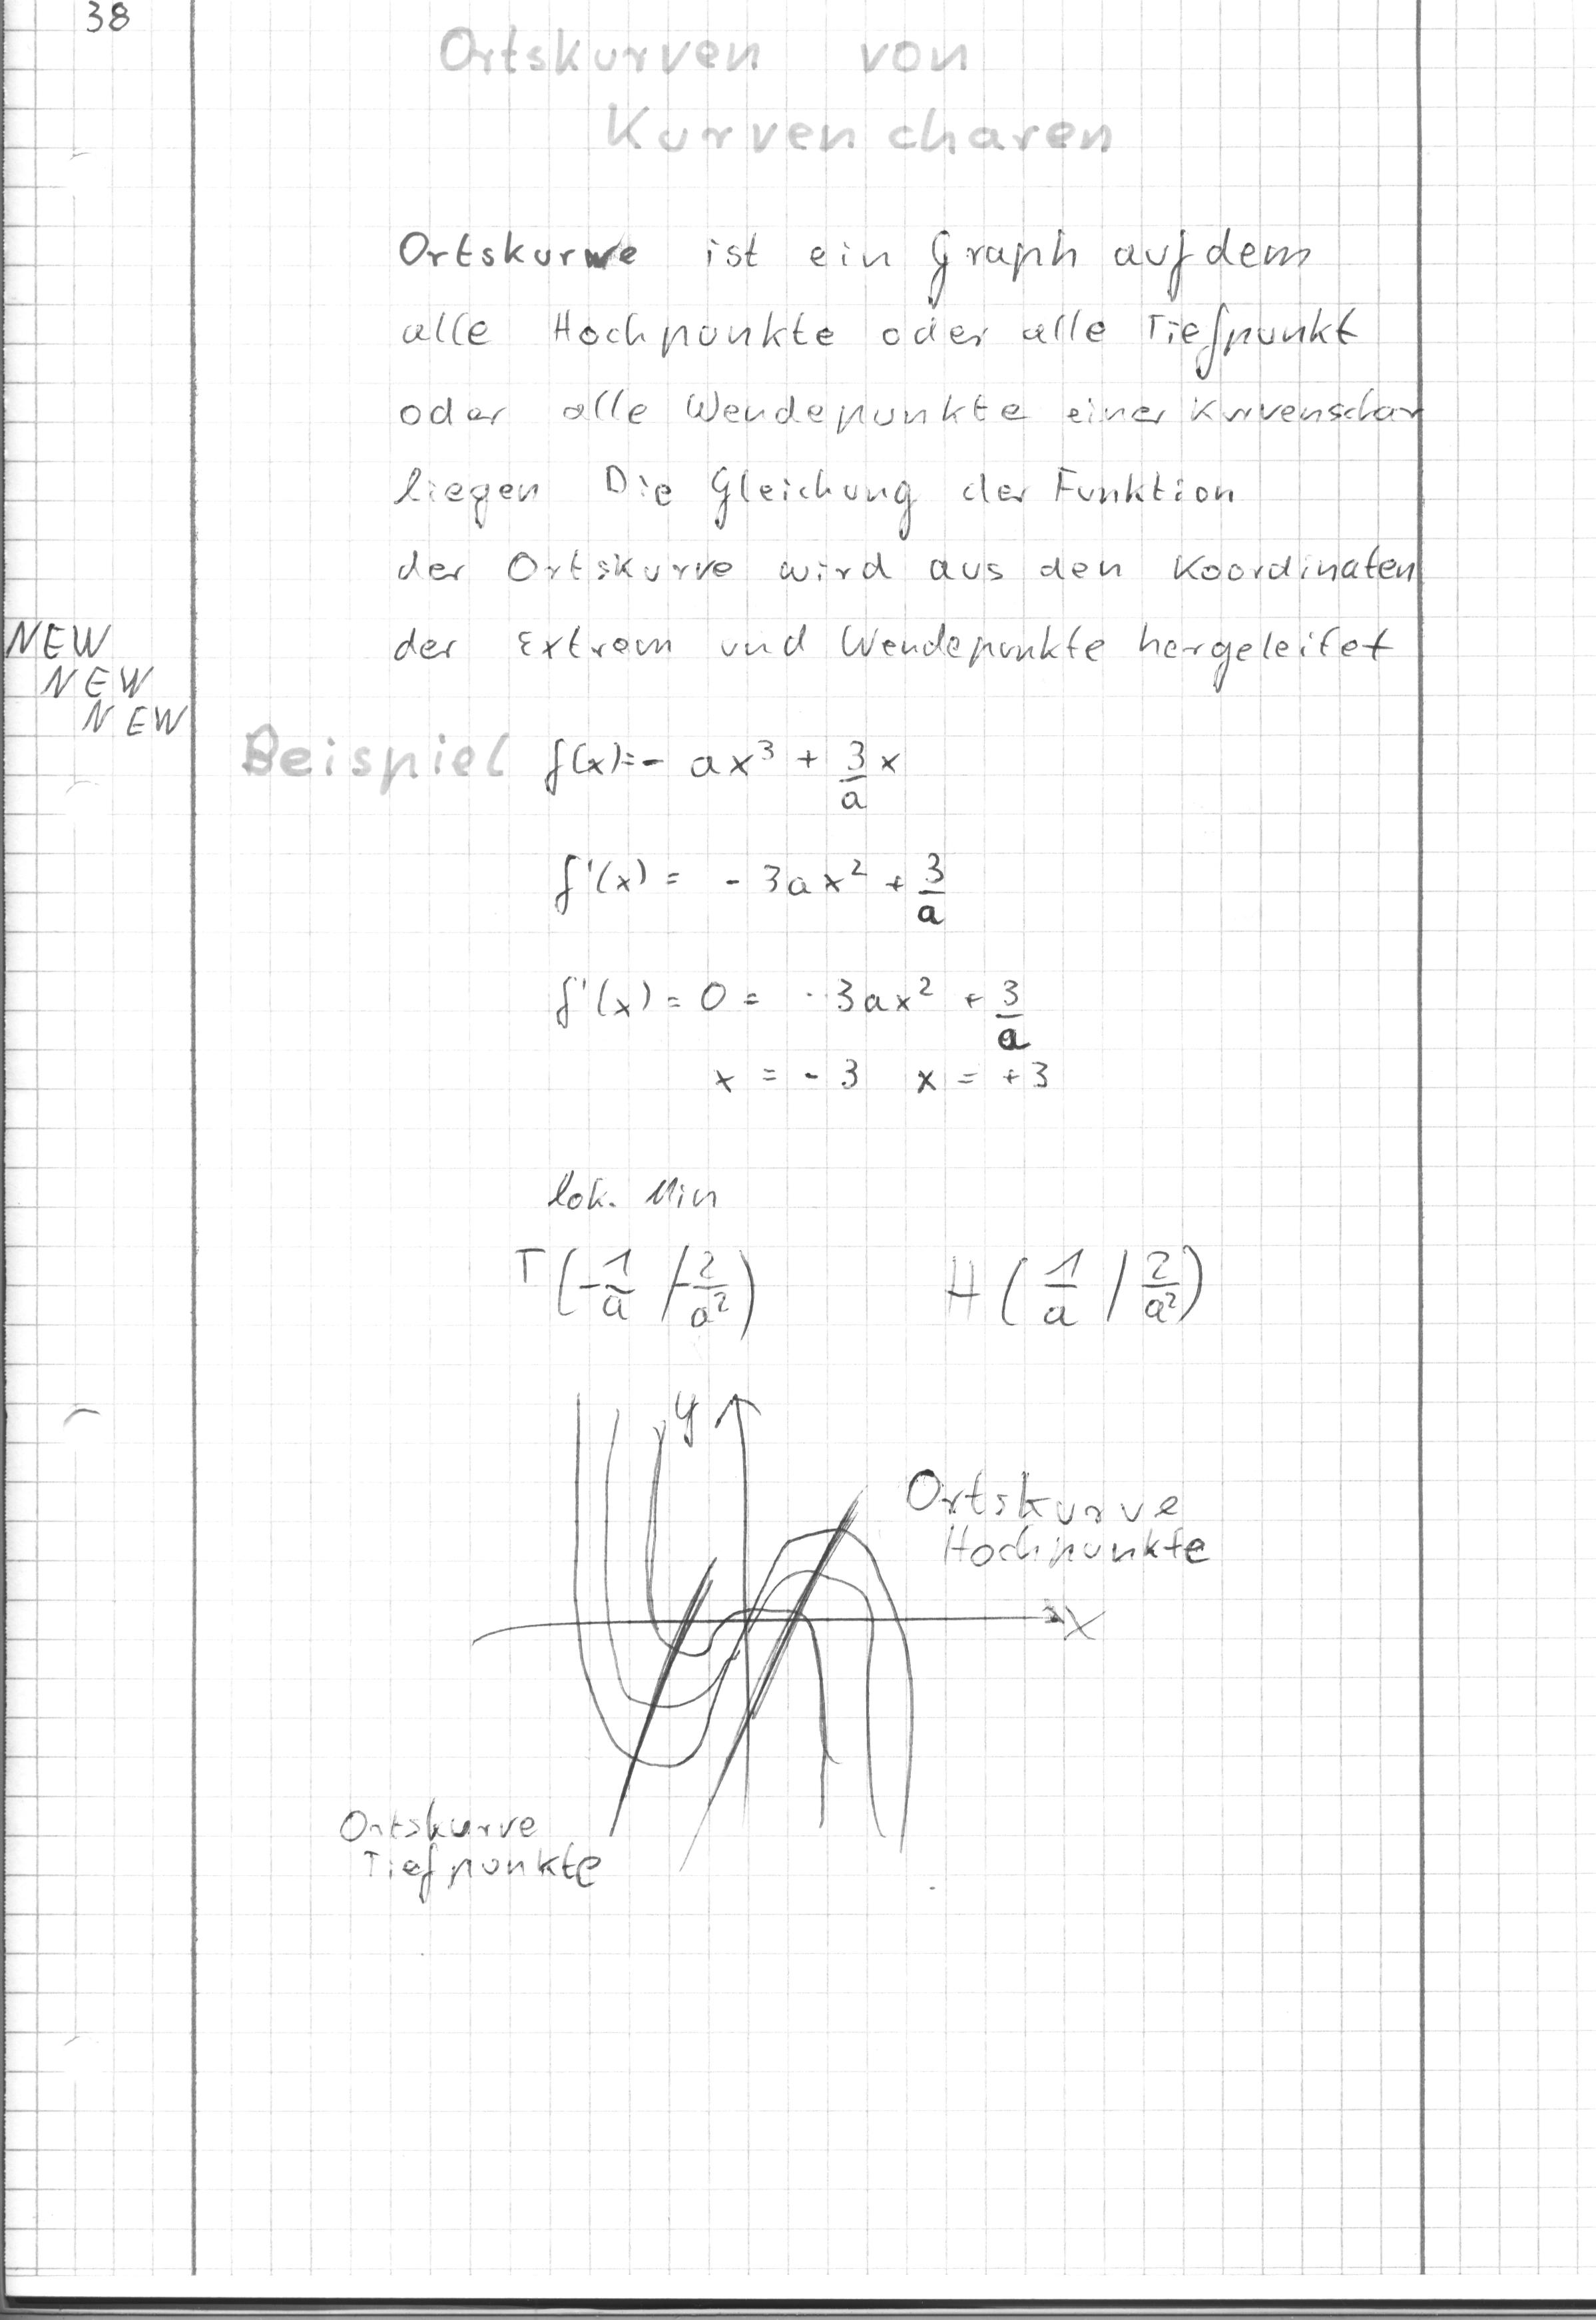word: (379, 294, 1427, 707), (537, 725, 1074, 1107), (500, 1154, 772, 1356), (697, 223, 1316, 312), (902, 1454, 1221, 1584), (935, 1230, 1220, 1348), (336, 1797, 612, 1906), (5, 611, 201, 750)
